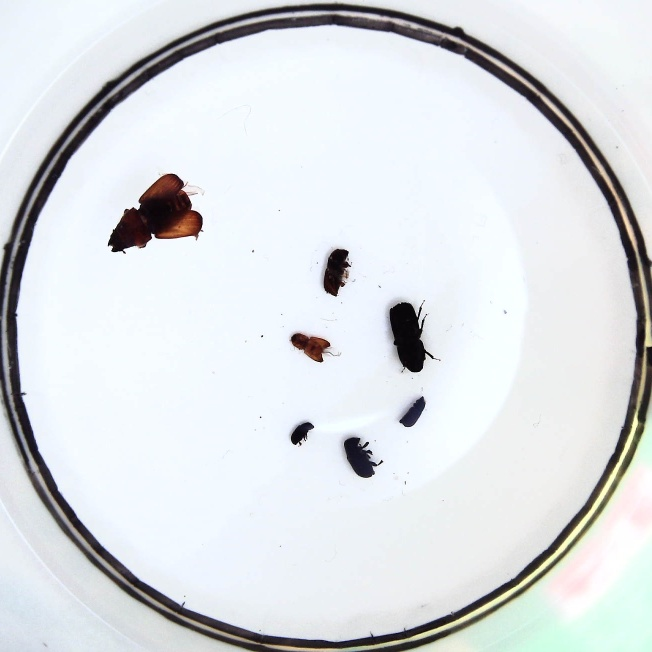acuminatus: (289, 333, 330, 362)
armandi: (342, 436, 377, 477)
boerner: (389, 301, 427, 374)
coleoptera: (401, 397, 424, 427), (289, 421, 313, 444)
leconte: (109, 174, 203, 251)
linnaeus: (322, 248, 349, 296)
